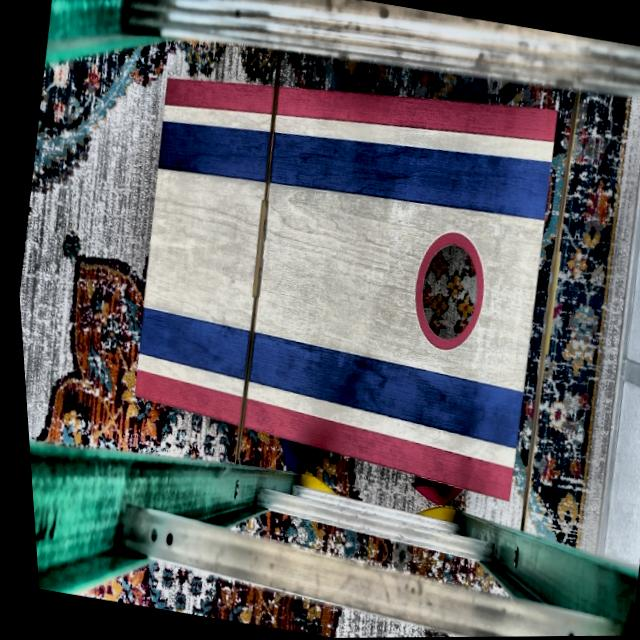blue-bean-bag: (443, 75, 492, 106), (268, 440, 302, 473)
board: (113, 76, 564, 460)
hole: (398, 225, 493, 356)
red-bean-bag: (402, 479, 457, 507)
